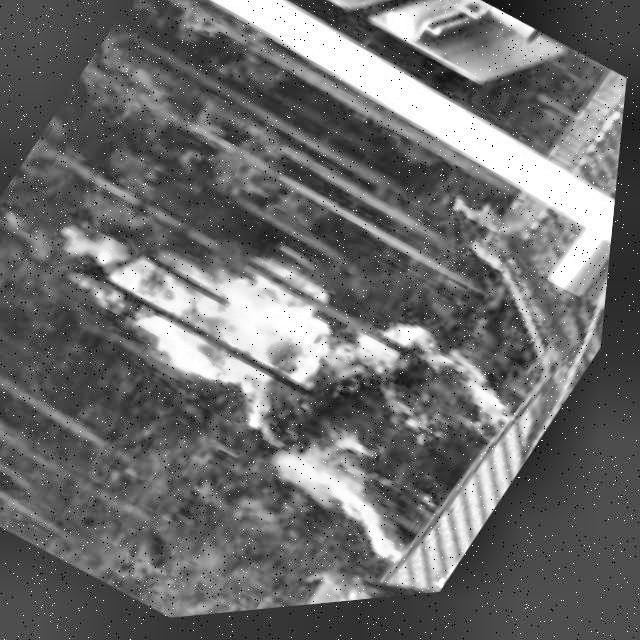Fire: (0, 142, 548, 608)
